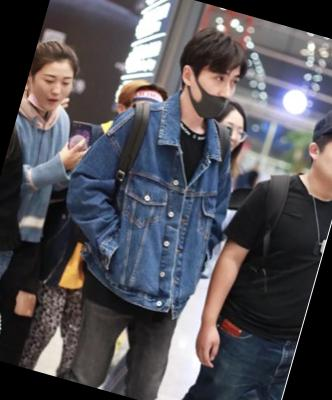mask_weared_incorrect: (186, 62, 245, 127), (27, 64, 77, 116)
without_mask: (214, 108, 249, 154), (315, 136, 332, 188)
